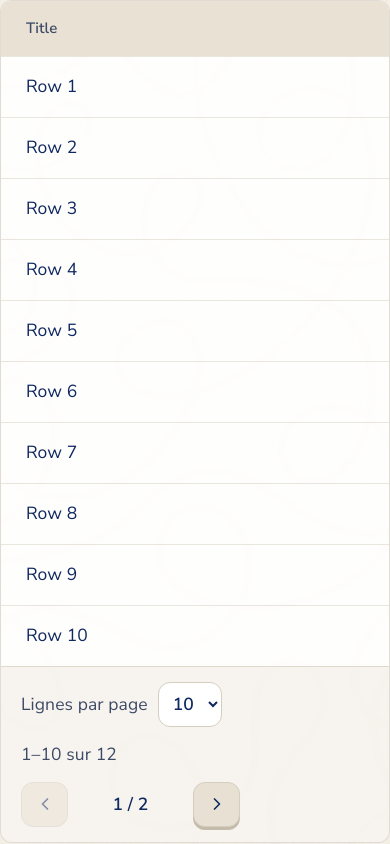
Test: DataTable pagination › pages rows and updates range
The image size is (390, 844).
Expected: the element with test id "data-table-pagination" is shown, [1,666,389,842]
Expected: the text "Row 1" is shown, [1,56,389,117]
What coordinates should you click on to do the following:
click the button with test id "data-table-next"
I would click on:
 (216, 804)
Its box is [193,782,240,826].
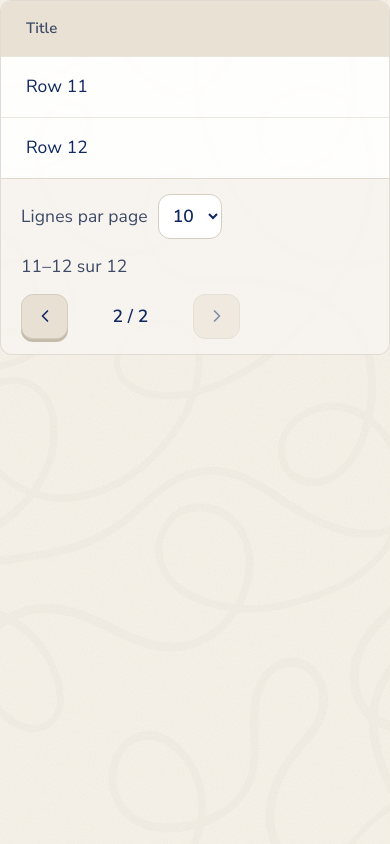
Expected: the text "Row 11" is shown, [1,56,389,117]
Expected: the text with test id "data-table-page-range" shows "11–12", [21,254,128,278]
